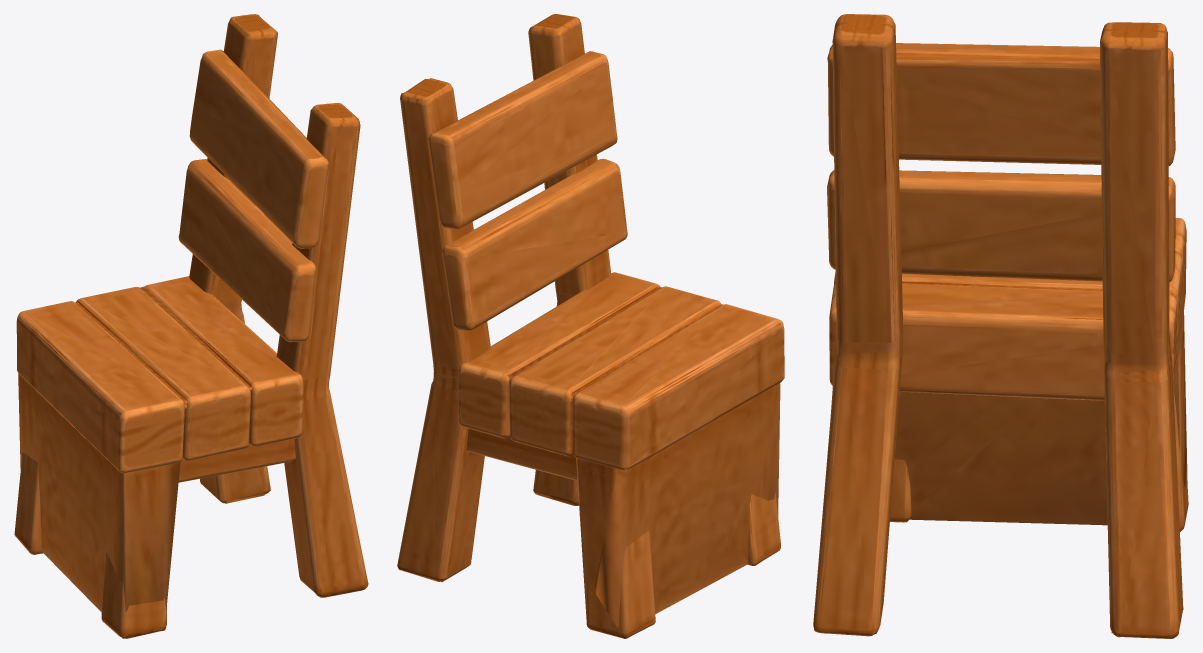
File: chair.glb
The picture shows the model from 3 angles, left to right: view 1: azimuth 30°, elevation 25°; view 2: azimuth 150°, elevation 25°; view 3: azimuth 270°, elevation 25°; orthographic projection. The views are drawn at different scales.
Bounding box in the file's own units: 0.57 × 1 × 0.5522.
1 material, 1 textured.
